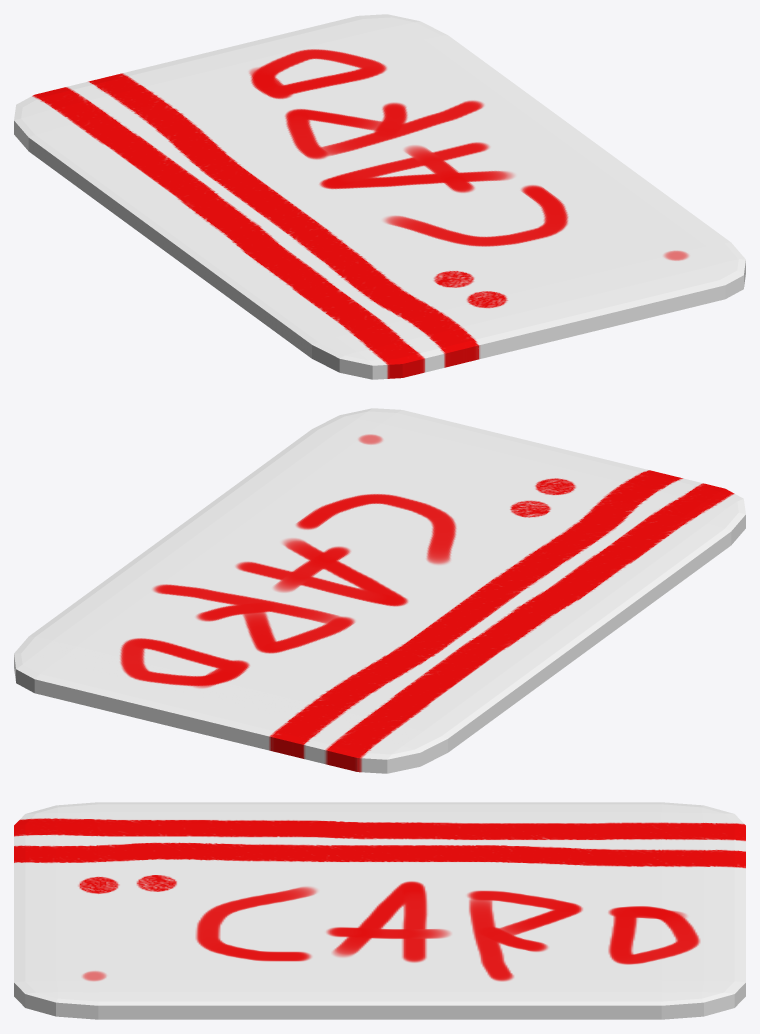
Rendered from TempKeycard.fbx.
3 views of the same model, one above another, from view 1: azimuth 30°, elevation 25°; view 2: azimuth 150°, elevation 25°; view 3: azimuth 270°, elevation 25° (orthographic).
Visible parts, largest first — view 1: Cube; view 2: Cube; view 3: Cube.
Part boxes in pixels (<box>): Cube: <box>14,14,745,379</box>; Cube: <box>14,408,745,773</box>; Cube: <box>14,802,745,1019</box>.
Bounding box in the file's own units: 200 × 8.31 × 304.
Materials: 1 (1 with a texture image).
